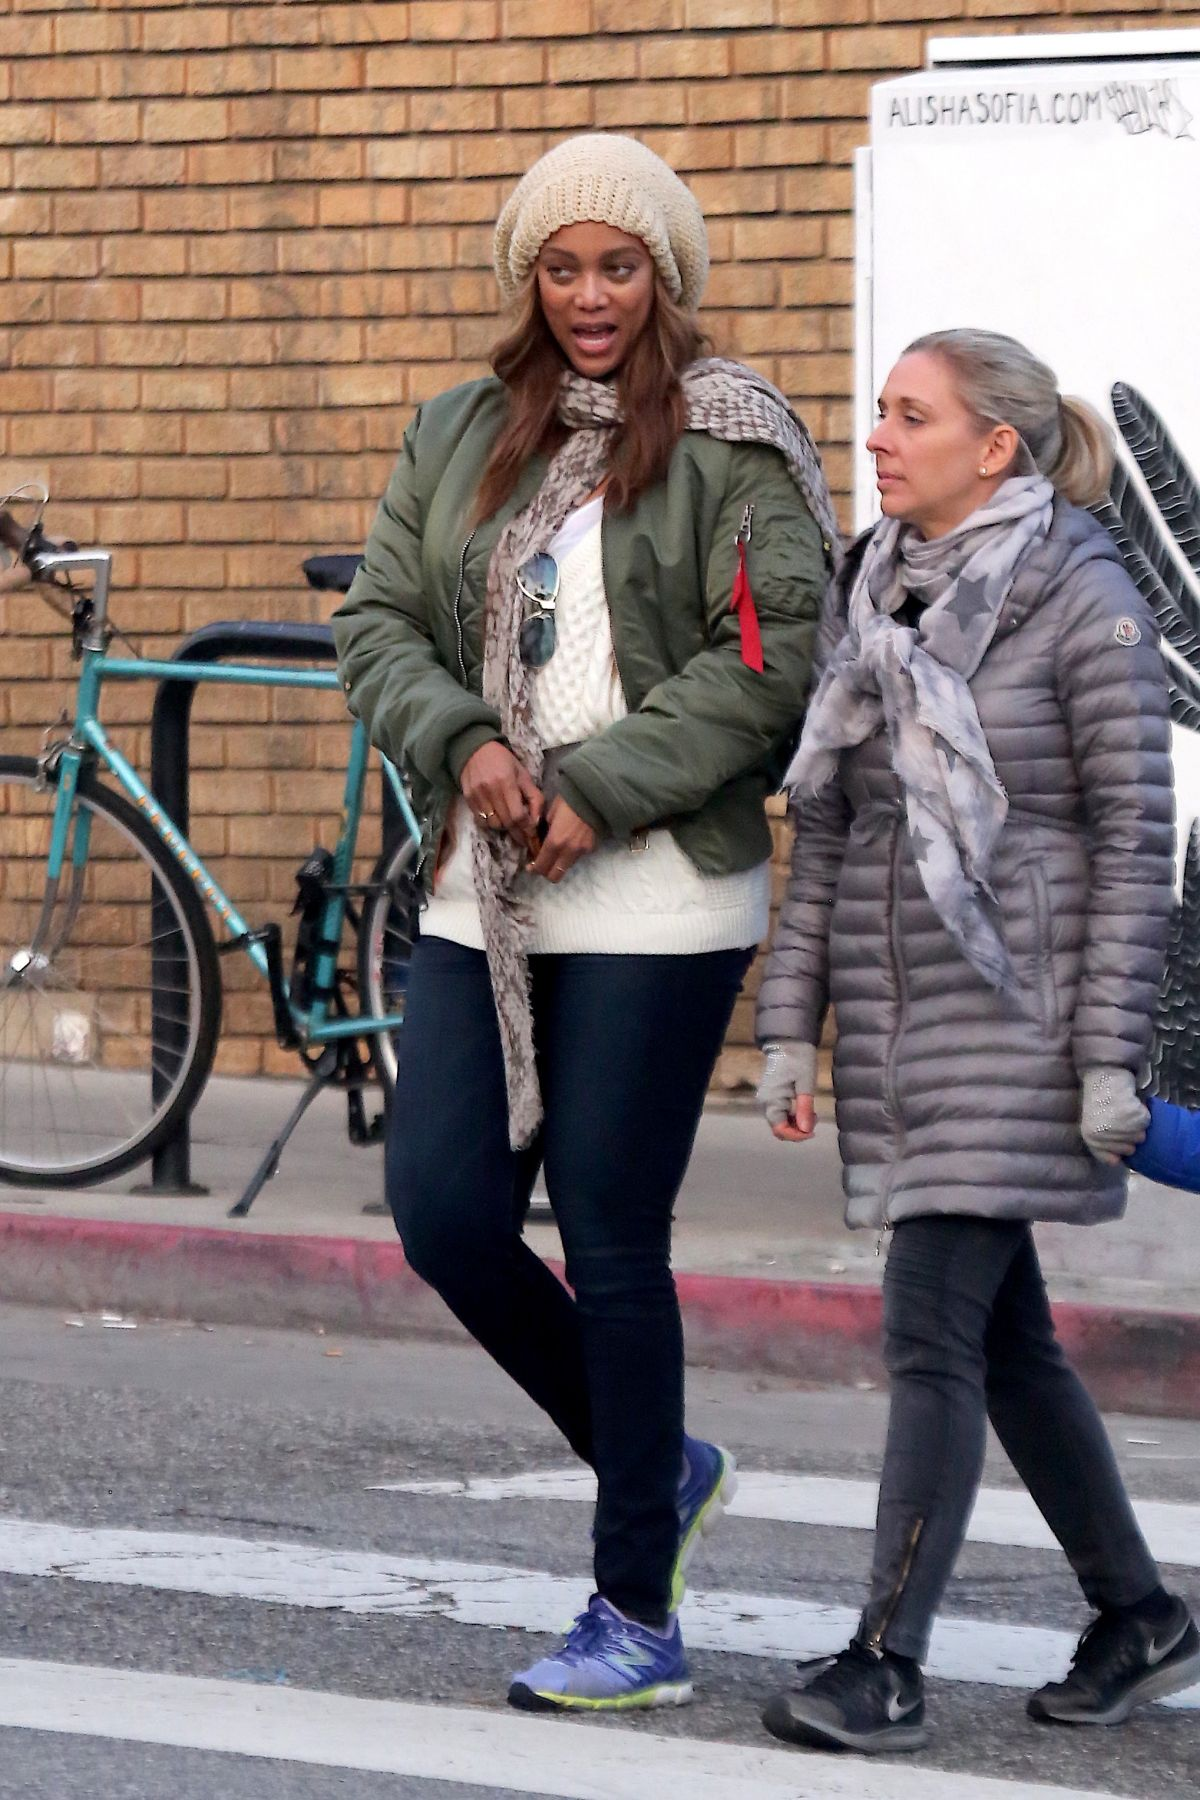Person: (330, 132, 835, 1717), (755, 325, 1200, 1753)
